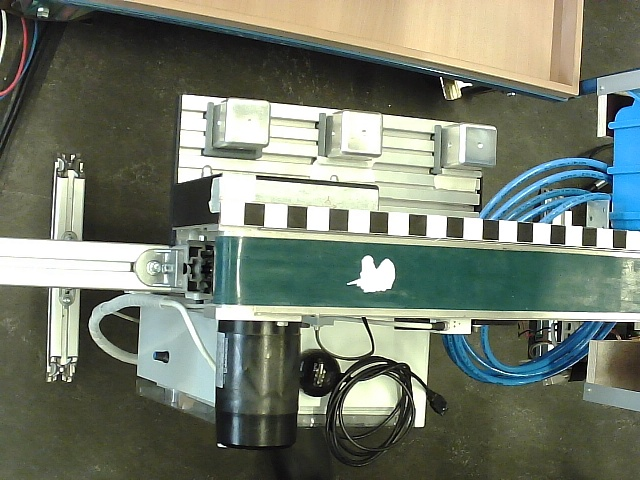unicorn: (346, 254, 397, 294)
